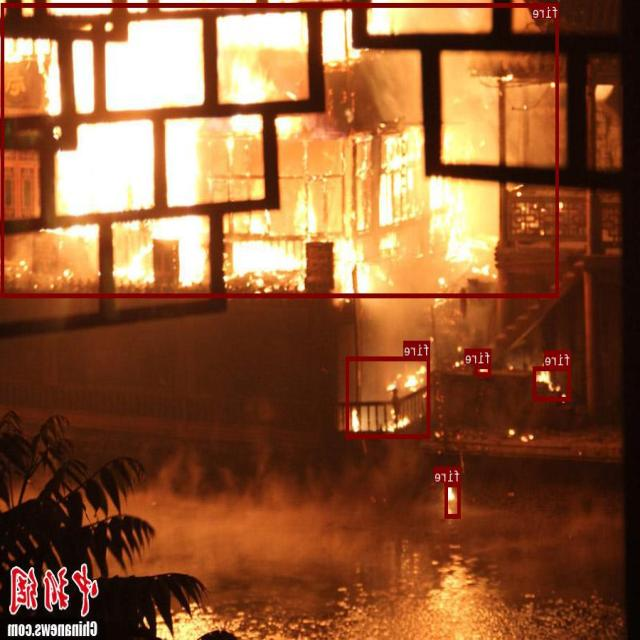fire: (2, 3, 559, 297), (346, 356, 431, 438), (534, 366, 572, 400), (445, 482, 461, 518), (476, 364, 492, 375)
